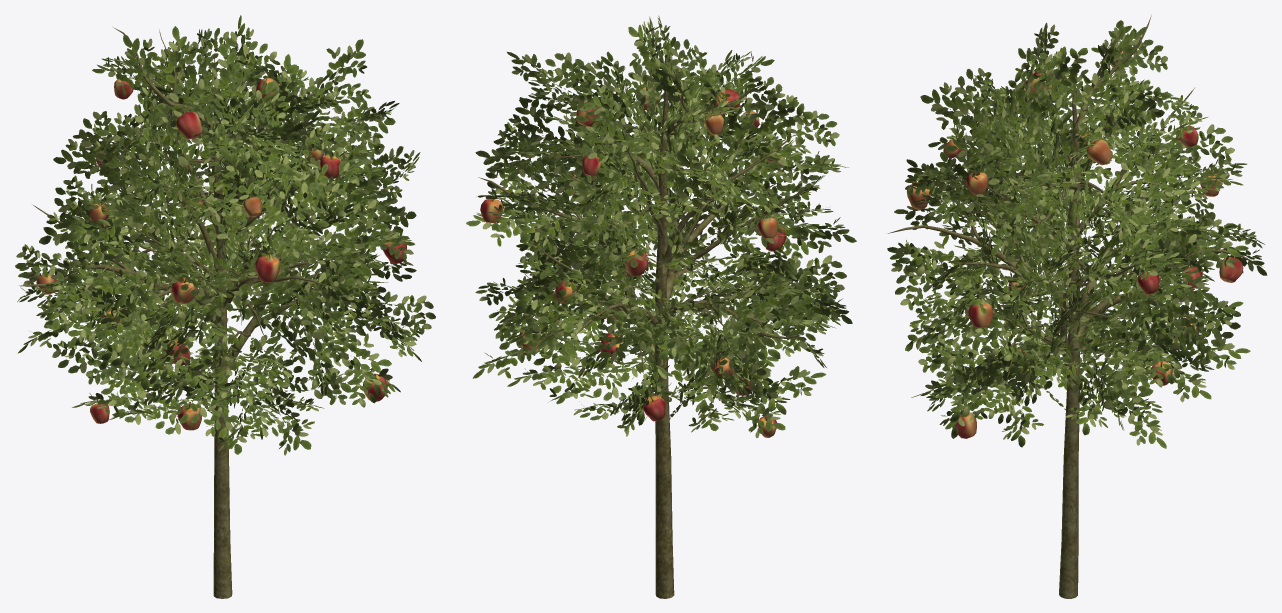
The model's file is tree_apple.glb.
3 views of the same model, side by side, from view 1: azimuth 30°, elevation 25°; view 2: azimuth 150°, elevation 25°; view 3: azimuth 270°, elevation 25° (orthographic).
Parts seen in each view (by area): view 1: tree_apple; view 2: tree_apple; view 3: tree_apple.
Part boxes in pixels (x1=…): tree_apple: x1=15, y1=15, x2=435, y2=598; tree_apple: x1=466, y1=15, x2=856, y2=598; tree_apple: x1=887, y1=15, x2=1267, y2=598.
Size of the model in its own units: 4.82 by 7.2 by 4.44.
Materials: 3 (3 with a texture image).
